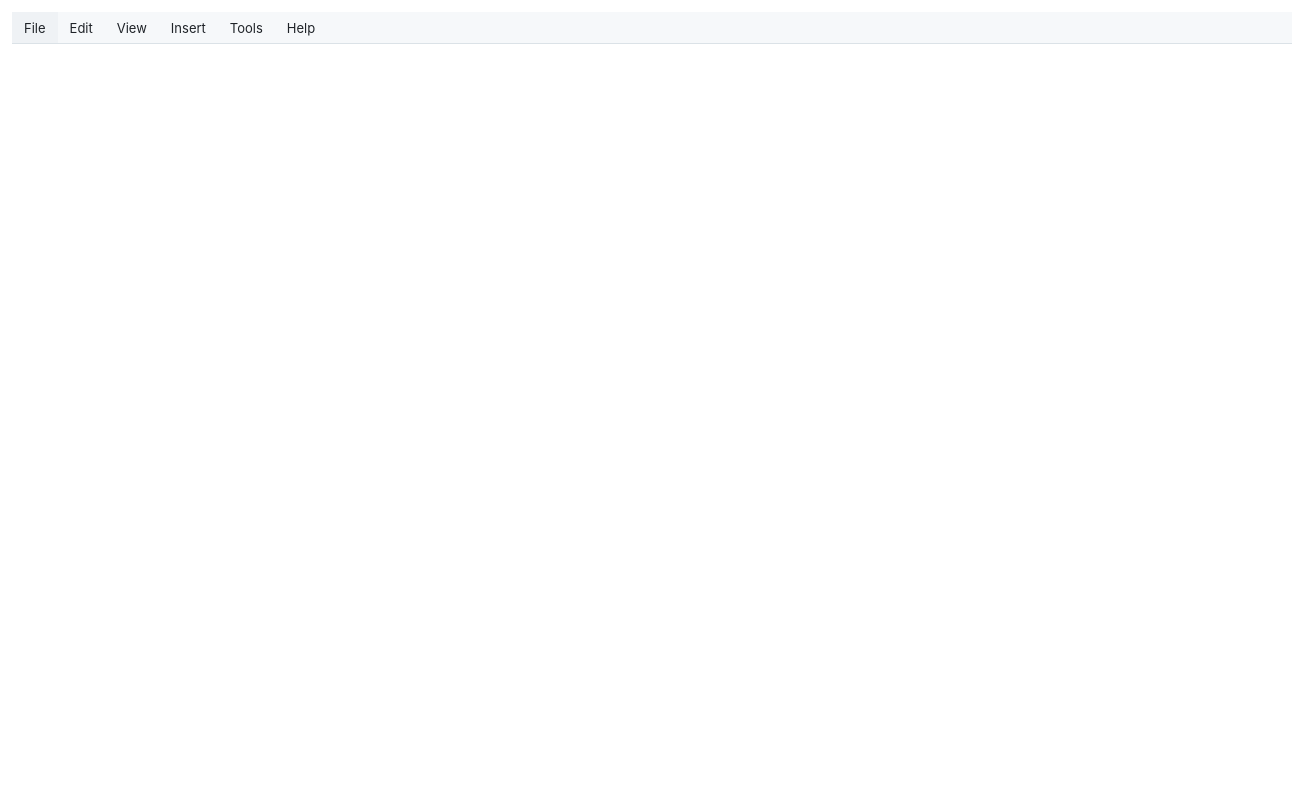
it: menu submenus › opens a submenu when its parent row is hovered
Press the mouse on the button with class "menubar-button" showing "Insert" at (188, 28), box [159,12,218,43]
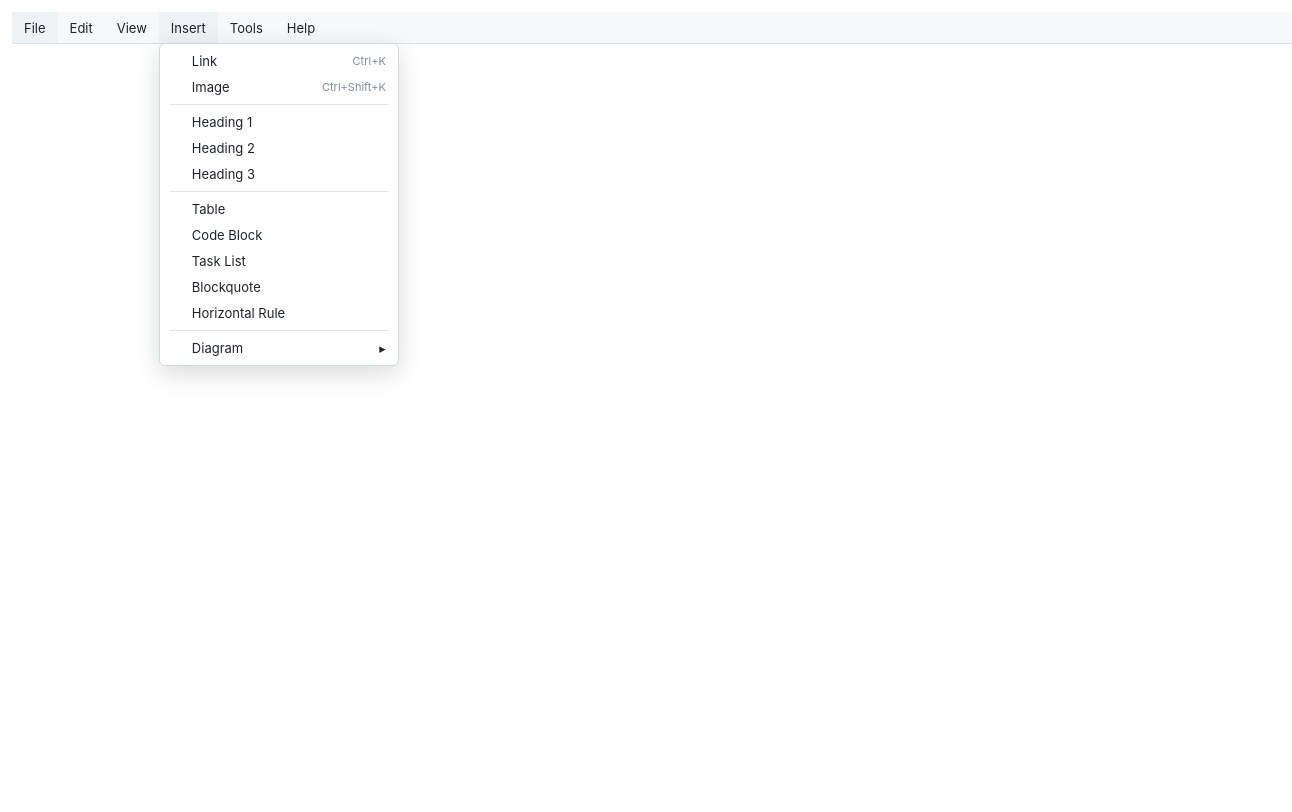
Check: the text "Diagram" is shown, box [192,340,243,356]
Hover over the button with class "menu-label" at (279, 348), box [164,335,394,361]
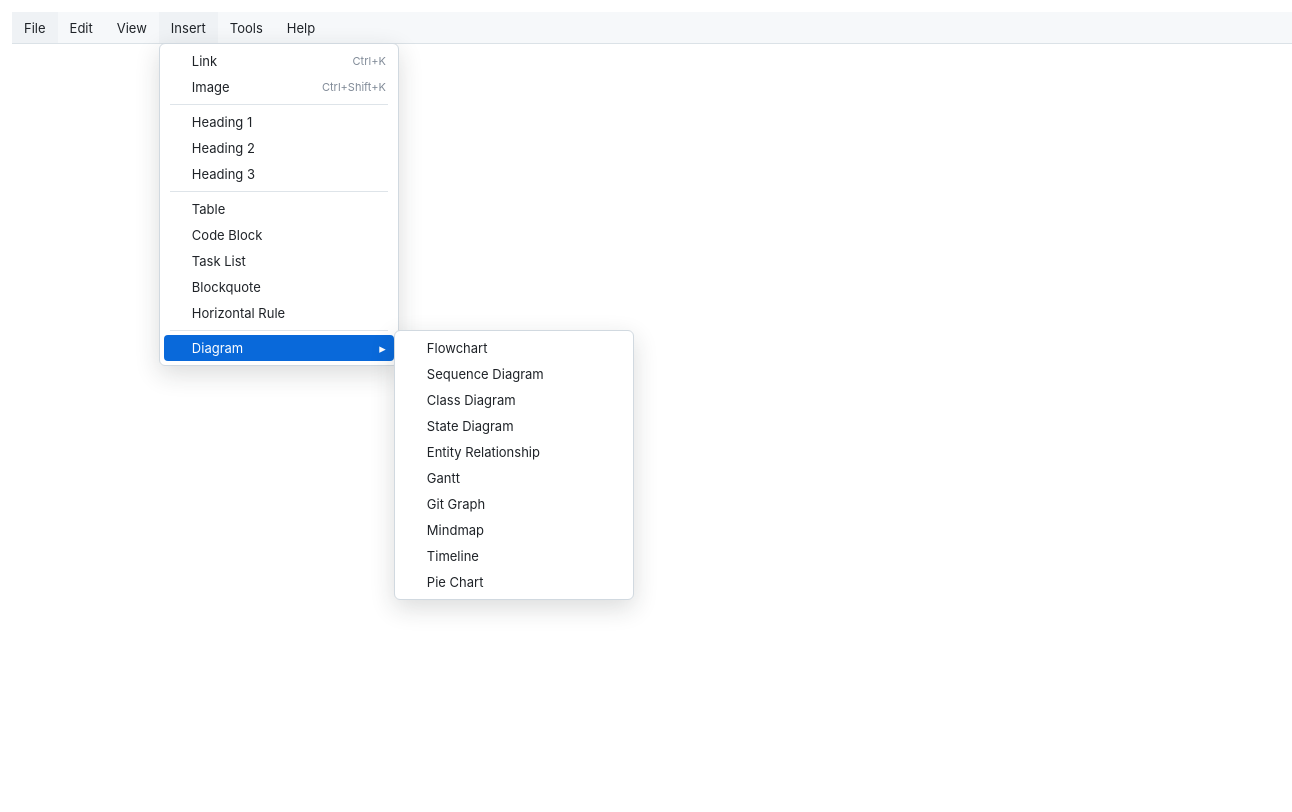
Check: the element with class "menu-submenu" is shown, box [394,330,634,600]
Check: the element with class "menu-submenu" shows "Flowchart", box [399,335,629,361]
